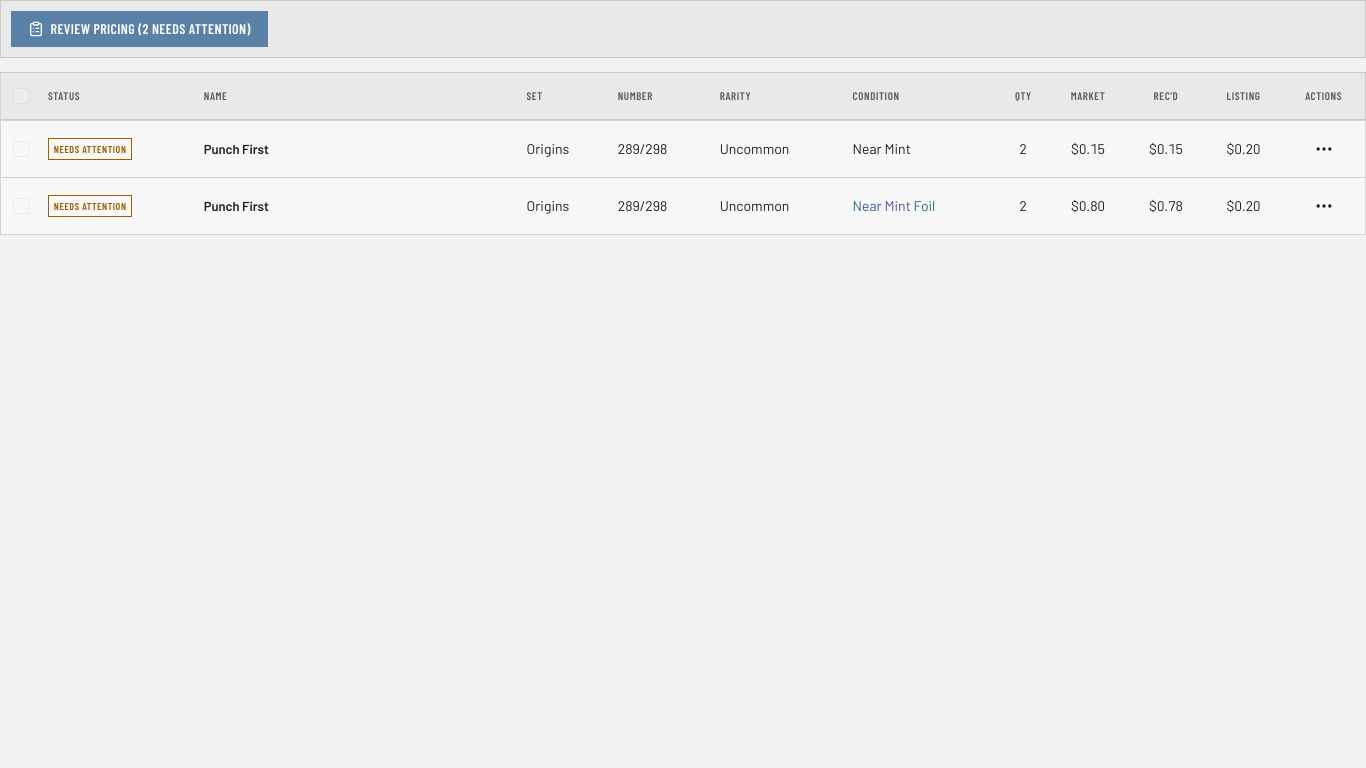
CardTable pricing review › groups Normal and Foil variants with the same Product ID into one review step
The width and height of the screenshot is (1366, 768).
Click the button "Review Pricing (2 Needs Attention)" at [139, 29], box [11,11,268,47]
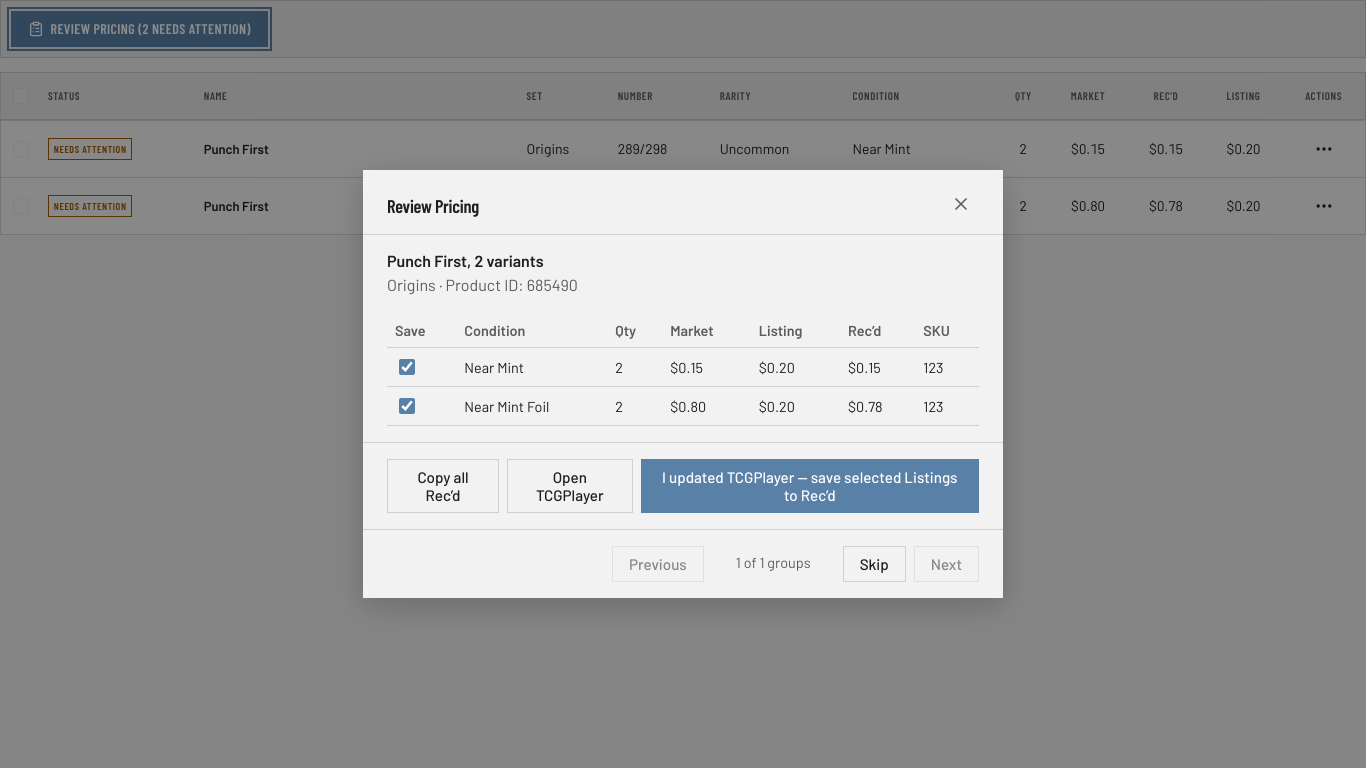
Expected: the dialog named "pricing review" shows "Punch First, 2 variants"
Expected: the text "Near Mint Foil" is shown, [456,387,607,426]
Expected: the text "$0.78" is shown, [840,387,915,426]
